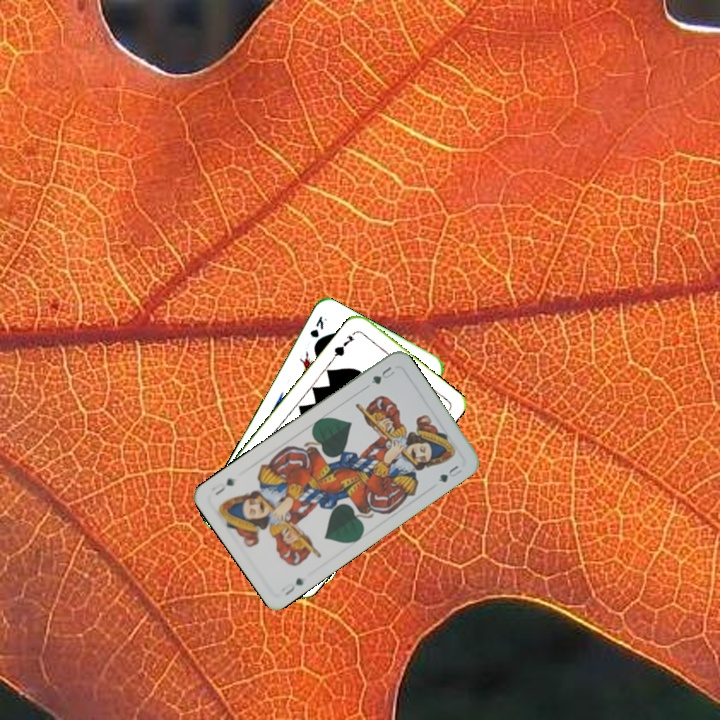G7: (329, 331, 357, 362)
GK: (306, 312, 330, 340)
GU: (367, 362, 397, 387), (277, 574, 306, 598)
